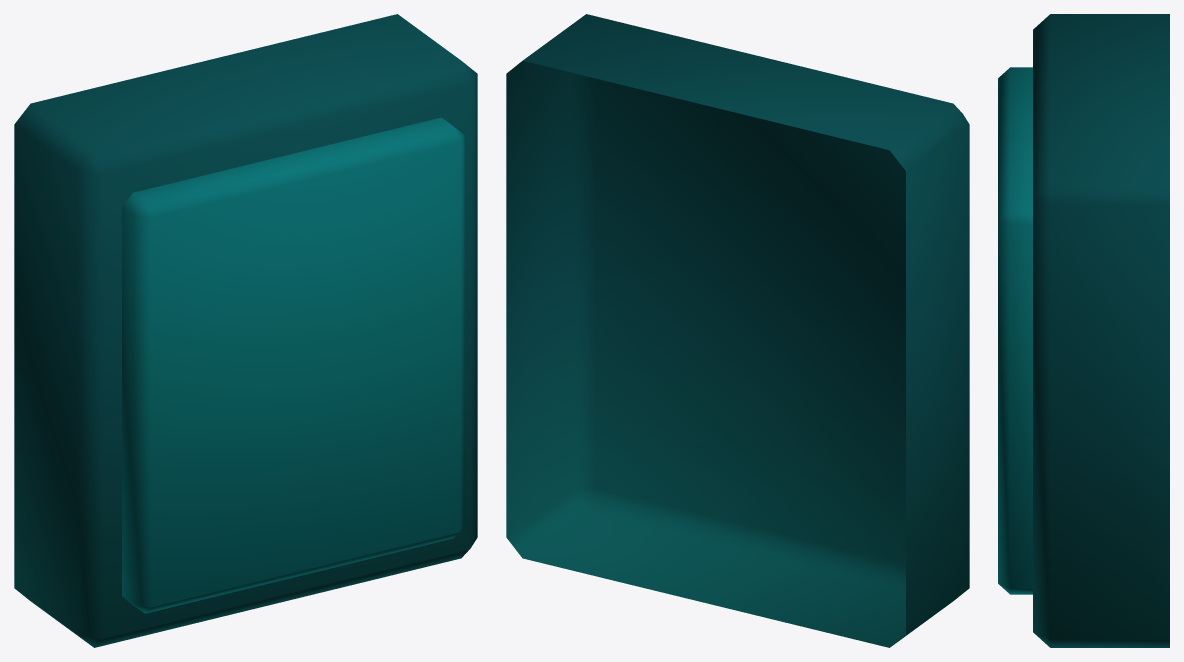
The model's file is ElectricBox_2_A_1.fbx.
3 views of the same model, side by side, from view 1: azimuth 30°, elevation 25°; view 2: azimuth 150°, elevation 25°; view 3: azimuth 270°, elevation 25° (orthographic). The views are drawn at different scales.
Parts seen in each view (by area): view 1: ElectricBox_2_A_1; view 2: ElectricBox_2_A_1; view 3: ElectricBox_2_A_1.
Part boxes in pixels (x1,y1,x2,y2): ElectricBox_2_A_1: (14, 14, 477, 647); ElectricBox_2_A_1: (506, 14, 969, 647); ElectricBox_2_A_1: (998, 14, 1169, 647).
Size of the model in its own units: 38.15 by 45.42 by 15.17.
